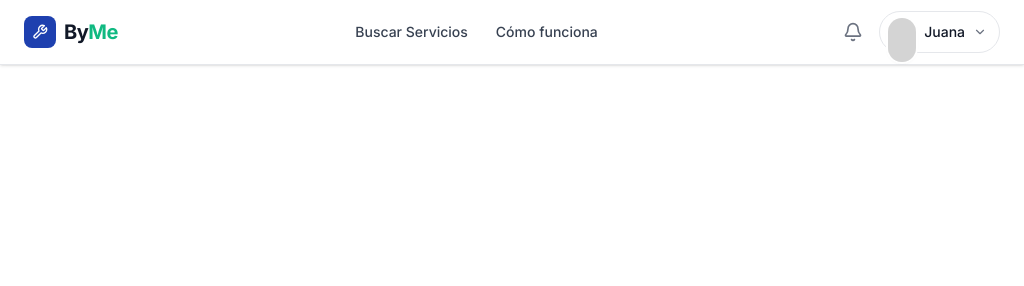
Navbar › dropdown de perfil › al hacer click en el botón del perfil, abre el dropdown
The image size is (1024, 286).
Expected: the text "Mi perfil" is not shown
Click the button "Juana".
click(940, 32)  # box [879,11,1000,53]
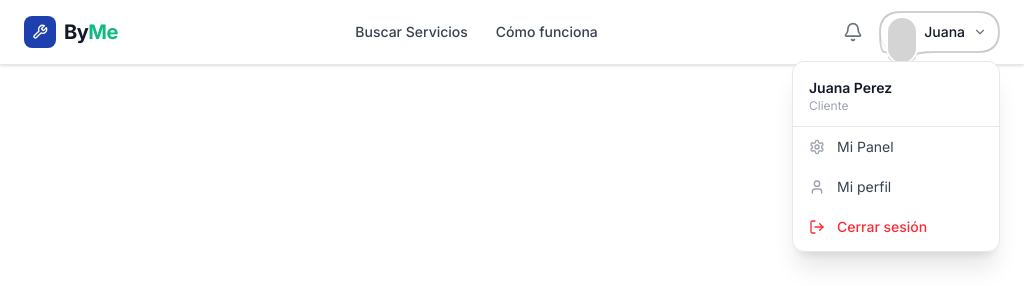
Now the link "Mi perfil" is shown, box [809,178,891,195]
Now the link "Mi Panel" is shown, box [809,138,894,155]
